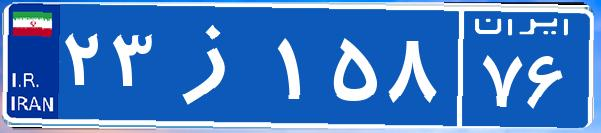1: (273, 28, 330, 110)
2: (57, 26, 110, 107)
3: (110, 28, 158, 105)
5: (330, 28, 385, 110)
6: (525, 38, 570, 115)
7: (475, 38, 525, 113)
8: (385, 28, 445, 110)
ز: (158, 15, 273, 115)
